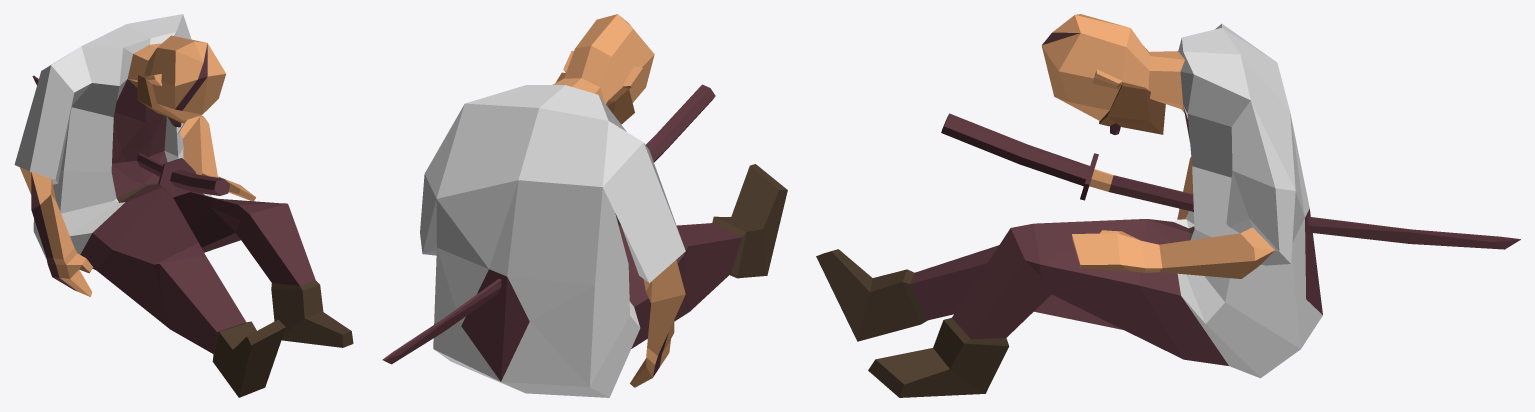
File: man-pedestrian-rival-dead-a.fbx
3 views of the same model, side by side, from view 1: azimuth 30°, elevation 25°; view 2: azimuth 150°, elevation 25°; view 3: azimuth 270°, elevation 25° (orthographic). The views are drawn at different scales.
Visible parts, largest first — view 1: man-pedestrian-rival-dead-a; view 2: man-pedestrian-rival-dead-a; view 3: man-pedestrian-rival-dead-a.
Boxes of the visible parts, x1,y1,x2,y2 form: man-pedestrian-rival-dead-a: (14,14,353,397); man-pedestrian-rival-dead-a: (382,14,787,397); man-pedestrian-rival-dead-a: (816,14,1520,397).
Size of the model in its own units: 0.6104 by 0.8188 by 1.52.
